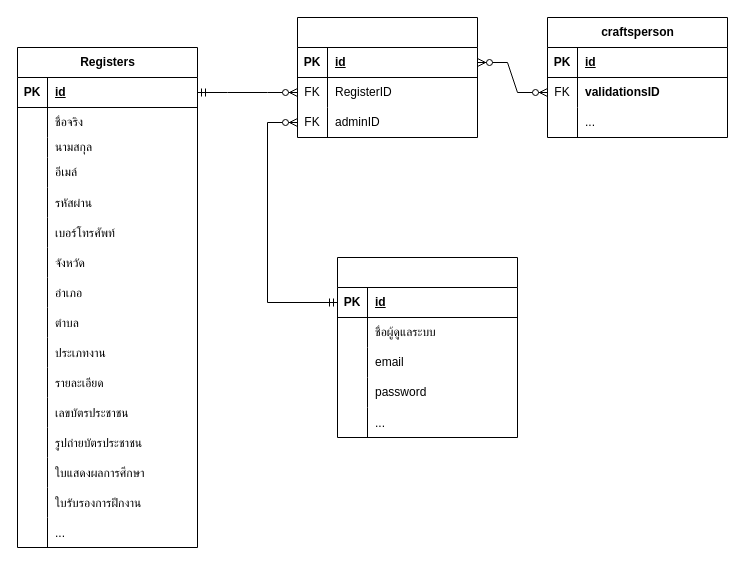
Image size: 745x565. Some labels were removed from this diagram. The box of each missing label's shape, as (x1, y1, x2, y2) in pixels:
admin: (336, 256, 518, 438)
validations: (296, 16, 478, 138)
